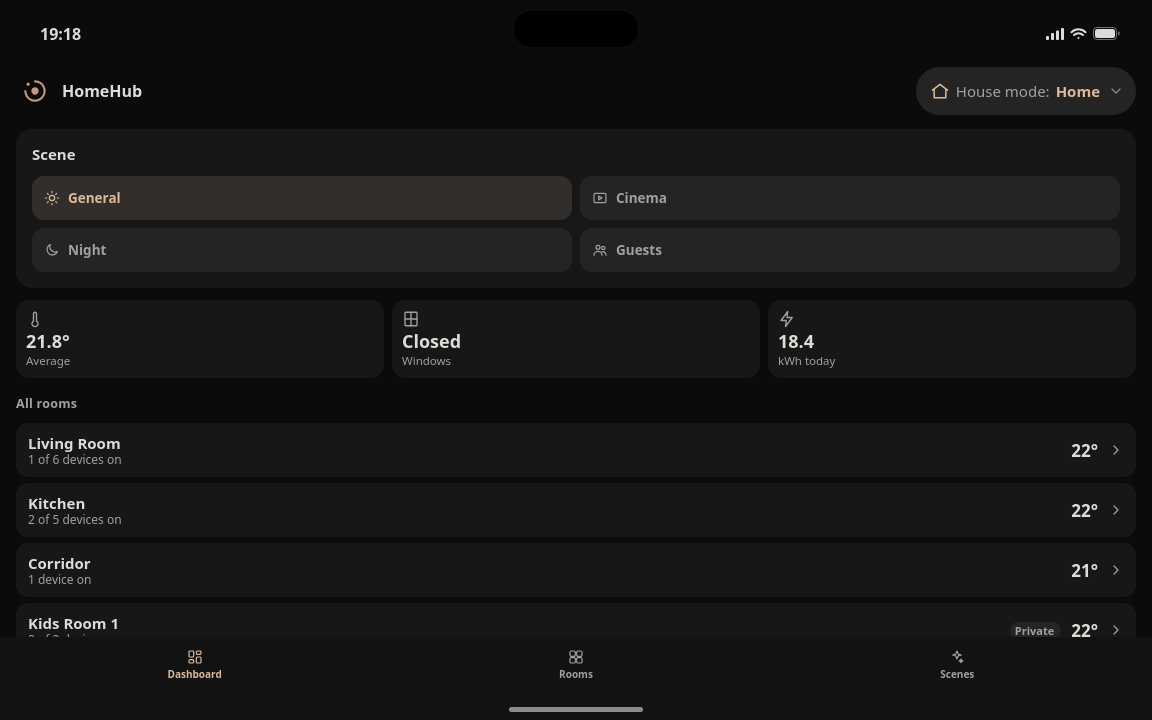
it: телефон: шапка и экраны › плитка Windows открывает шторку: 5 окон, без иконок
The width and height of the screenshot is (1152, 720).
Click the button "Closed Windows" at (432, 341), box left=392, top=300, right=760, bottom=378
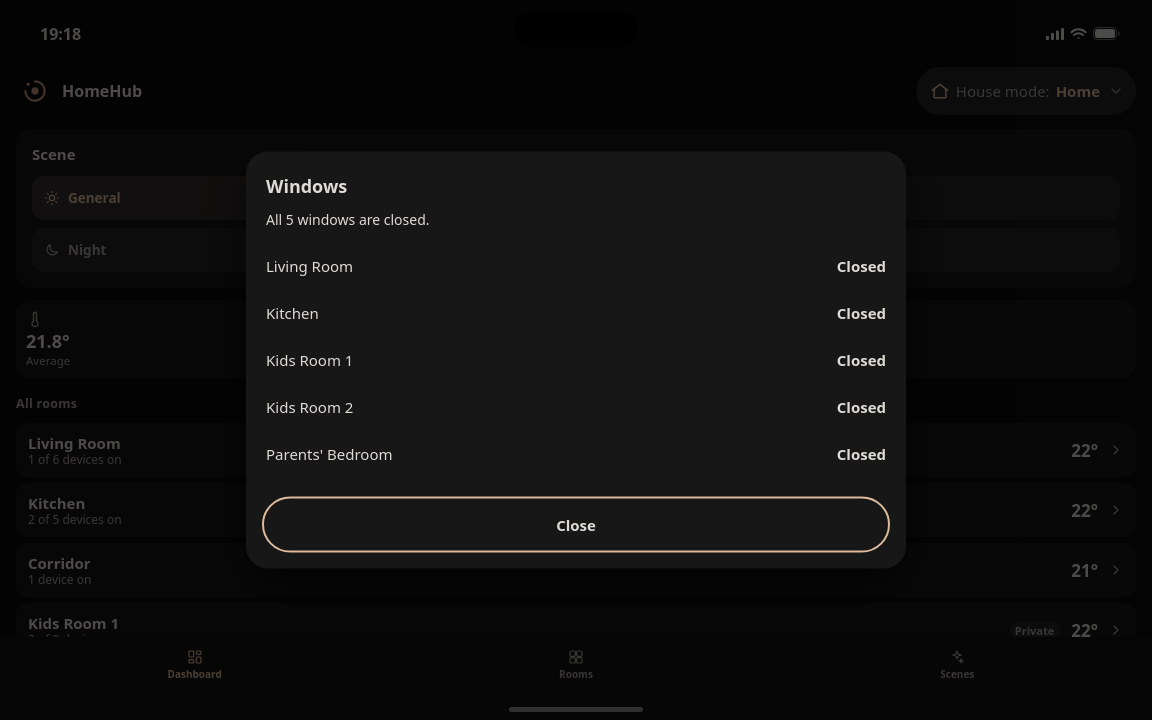
Result: the text "All 5 windows are closed." is shown at left=266, top=210, right=430, bottom=228
Result: the text "Closed" is shown 5 times at left=837, top=255, right=886, bottom=275; left=837, top=302, right=886, bottom=322; left=837, top=349, right=886, bottom=369; left=837, top=396, right=886, bottom=416; left=837, top=443, right=886, bottom=463
